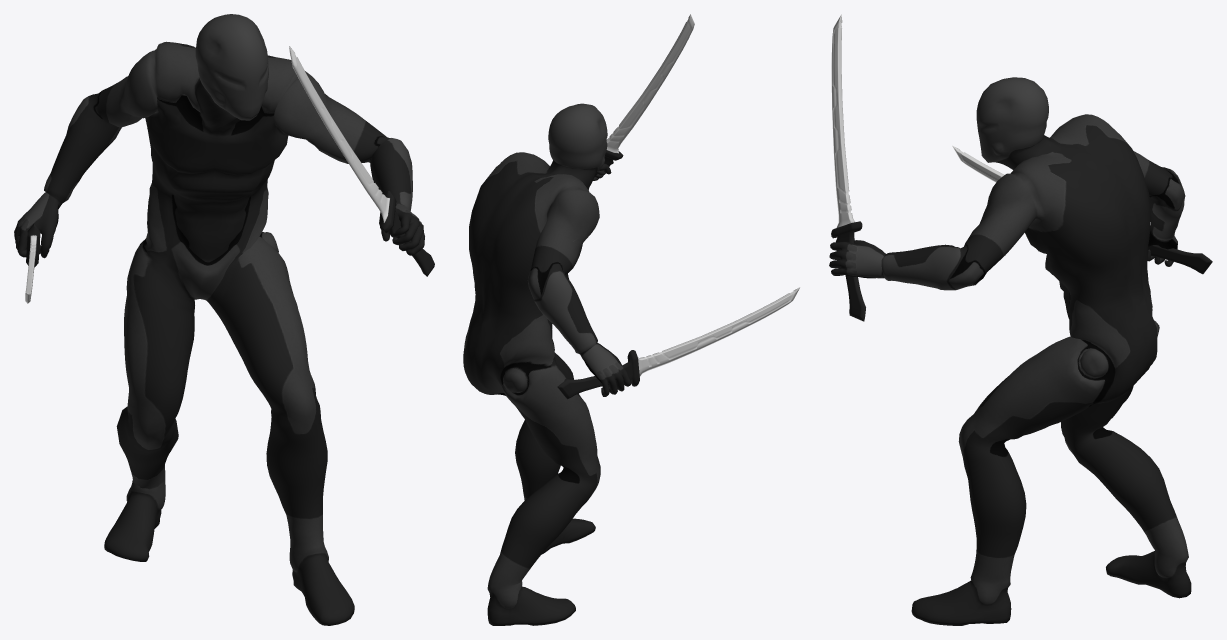
The picture shows the model from 3 angles, left to right: view 1: azimuth 30°, elevation 25°; view 2: azimuth 150°, elevation 25°; view 3: azimuth 270°, elevation 25°; orthographic projection. The views are drawn at different scales.
Parts seen in each view (by area): view 1: Cyborg_Ninja_Killer, Sword_l, Sword_l001; view 2: Cyborg_Ninja_Killer, Sword_l001, Sword_l; view 3: Cyborg_Ninja_Killer, Sword_l, Sword_l001.
Boxes of the visible parts, x1,y1,x2,y2 form: Cyborg_Ninja_Killer: (14, 14, 424, 625); Sword_l: (289, 46, 434, 276); Sword_l001: (25, 223, 40, 303); Cyborg_Ninja_Killer: (463, 103, 631, 625); Sword_l001: (557, 287, 800, 399); Sword_l: (594, 14, 694, 177); Cyborg_Ninja_Killer: (829, 77, 1191, 625); Sword_l: (831, 14, 865, 321); Sword_l001: (952, 145, 1212, 274).
Bounding box in the file's own units: 113 × 178 × 110.
Materials: 2 (2 with a texture image).
